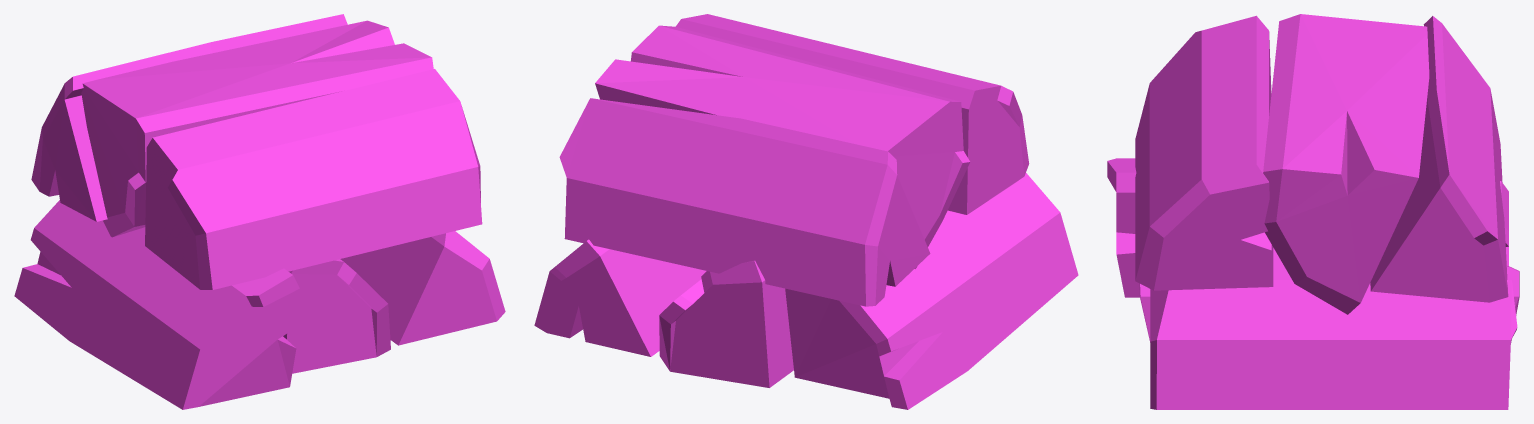
The model's file is SM_Wood_Pile_Wall_Ending_Fantasy.fbx.
3 views of the same model, side by side, from view 1: azimuth 30°, elevation 25°; view 2: azimuth 150°, elevation 25°; view 3: azimuth 270°, elevation 25° (orthographic). The views are drawn at different scales.
Parts seen in each view (by area): view 1: SM_Wood_Pile_Wall_Ending_Fantasy; view 2: SM_Wood_Pile_Wall_Ending_Fantasy; view 3: SM_Wood_Pile_Wall_Ending_Fantasy.
Part boxes in pixels (x1,y1,x2,y2): SM_Wood_Pile_Wall_Ending_Fantasy: [14, 14, 505, 409]; SM_Wood_Pile_Wall_Ending_Fantasy: [534, 14, 1078, 409]; SM_Wood_Pile_Wall_Ending_Fantasy: [1107, 14, 1519, 409].
Size of the model in its own units: 0.5655 by 0.3634 by 0.542.
